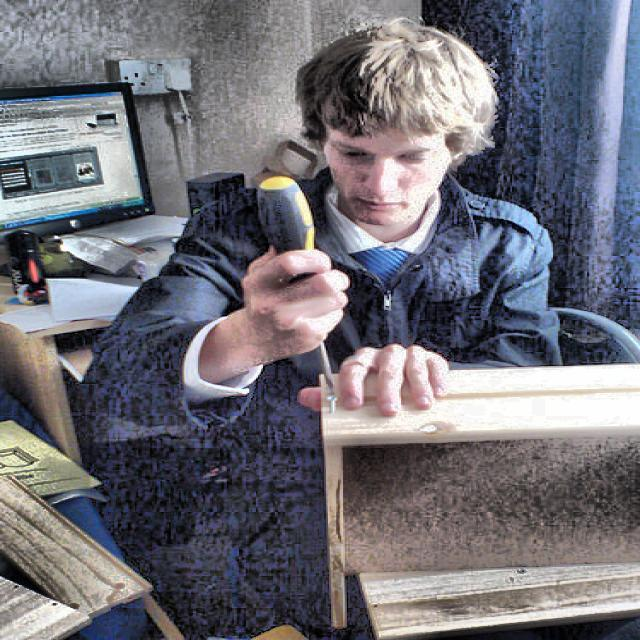screwdriver: (255, 177, 348, 396)
